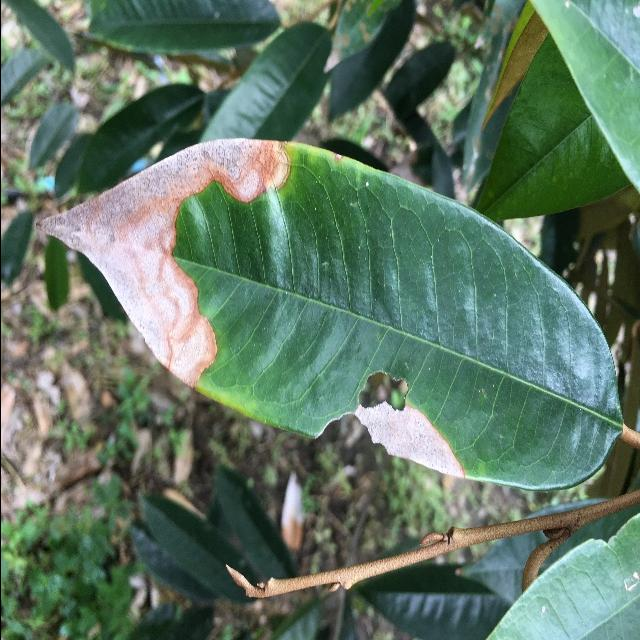Leaf Blight: (27, 130, 625, 497)
